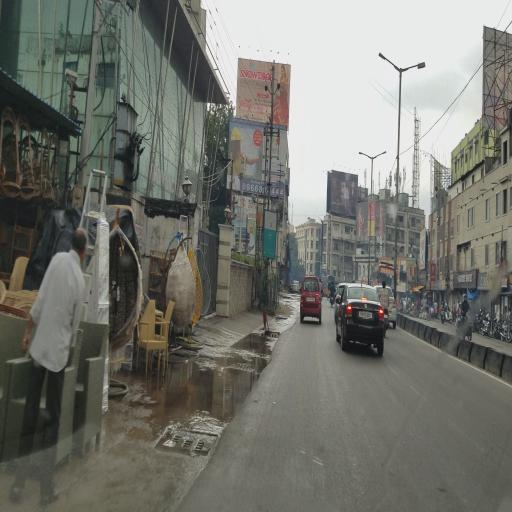street_light_0: (370, 39, 404, 83), (397, 56, 429, 78), (369, 144, 389, 167), (355, 144, 374, 168)
